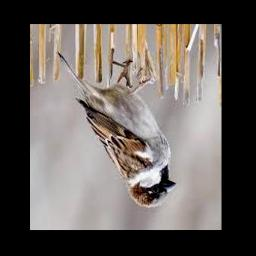Sparrow: (57, 52, 177, 209)
